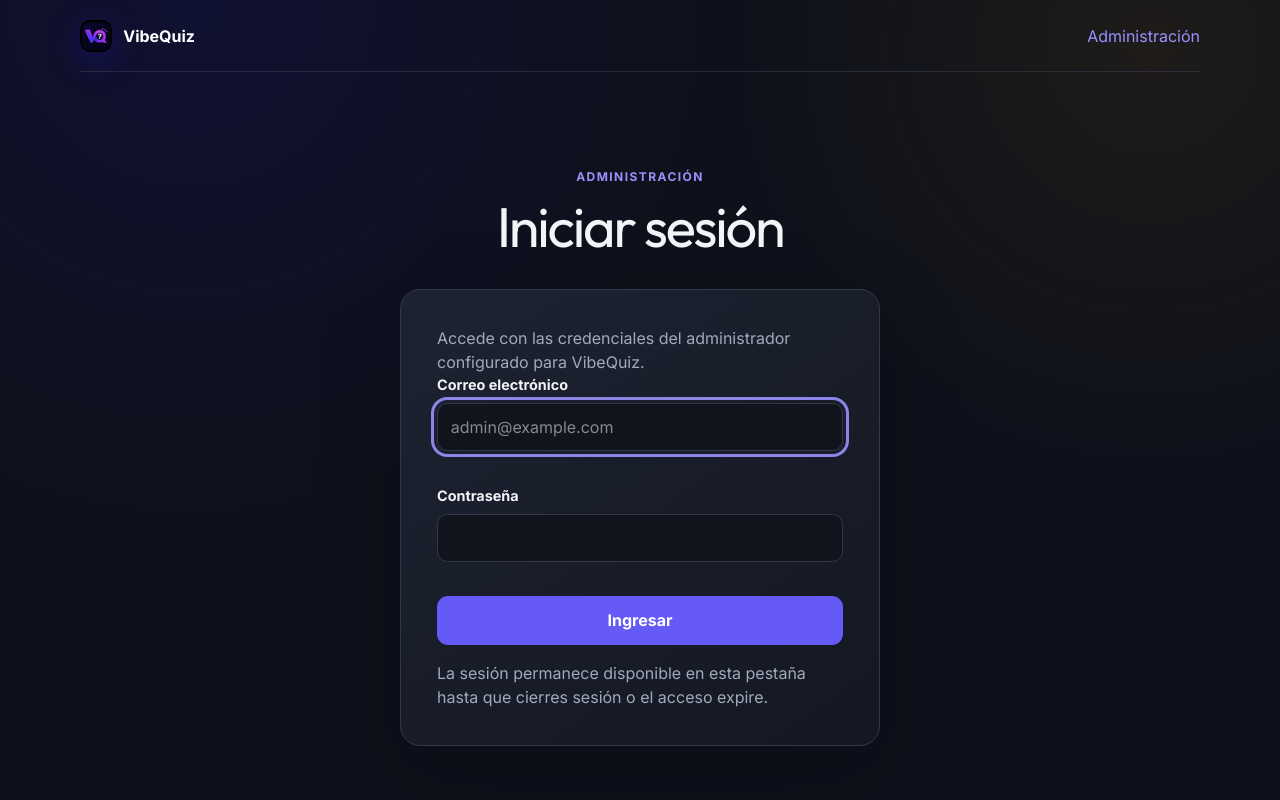
administrative authentication › shows a generic error for invalid credentials
Type "admin@vibequiz.test" into the field labelled "Correo electrónico" at (640, 427), box [437,403,843,451]
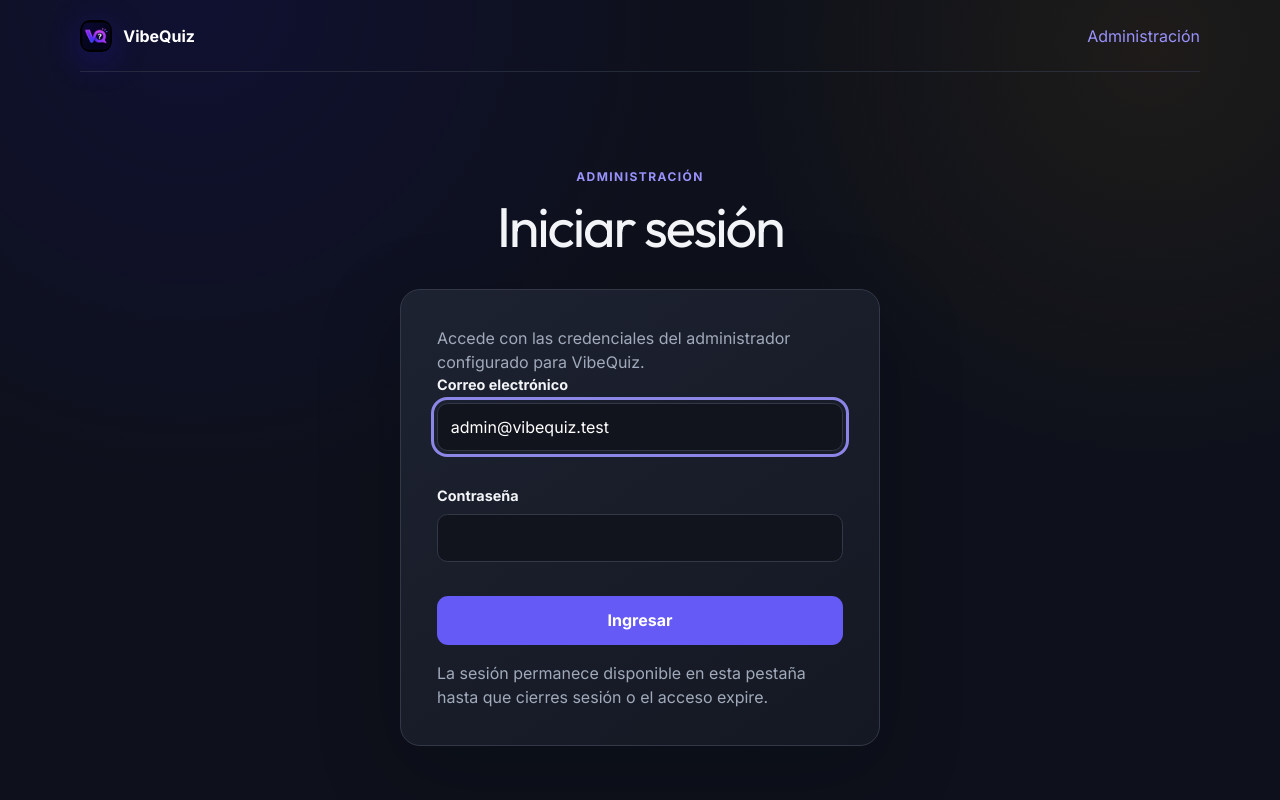
Type "wrong-password" into the password field labelled "Contraseña" at (640, 538), box [437,514,843,562]
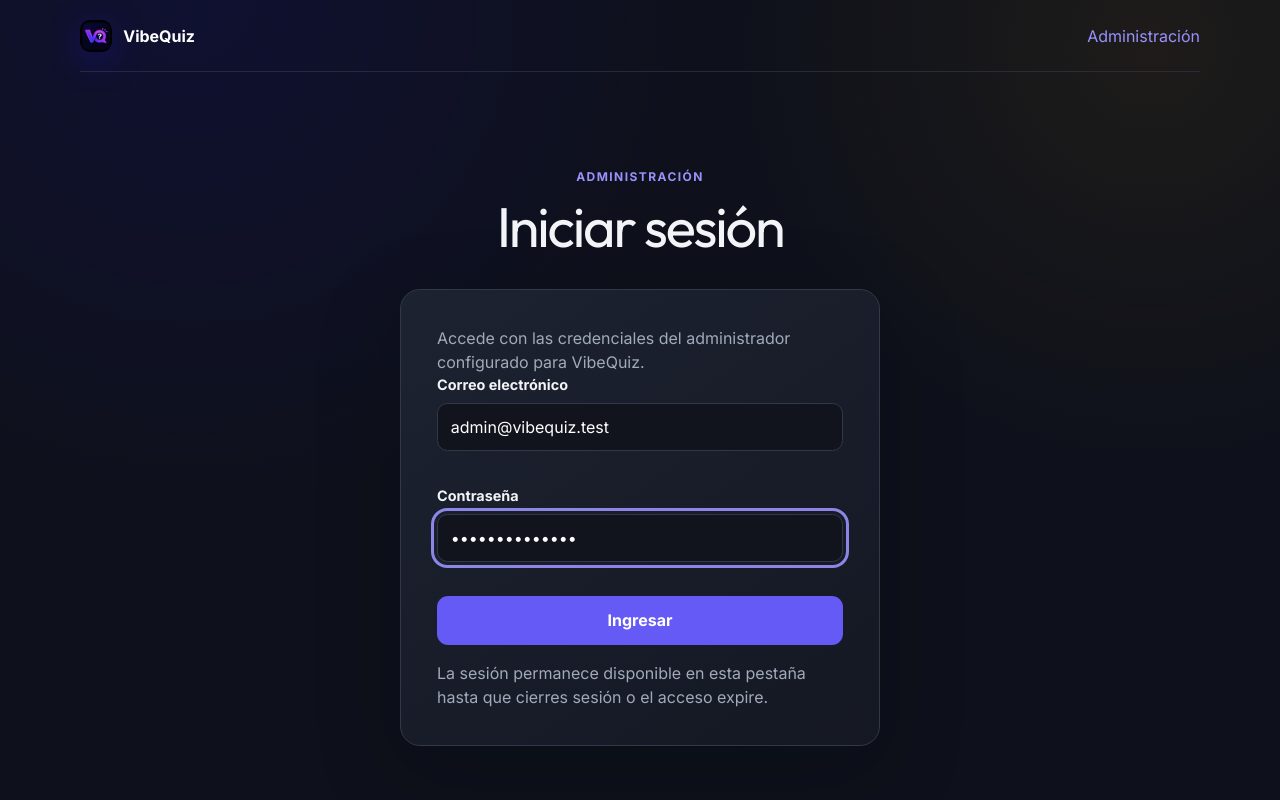
Click the button "Ingresar" at (640, 620), box [437,596,843,645]
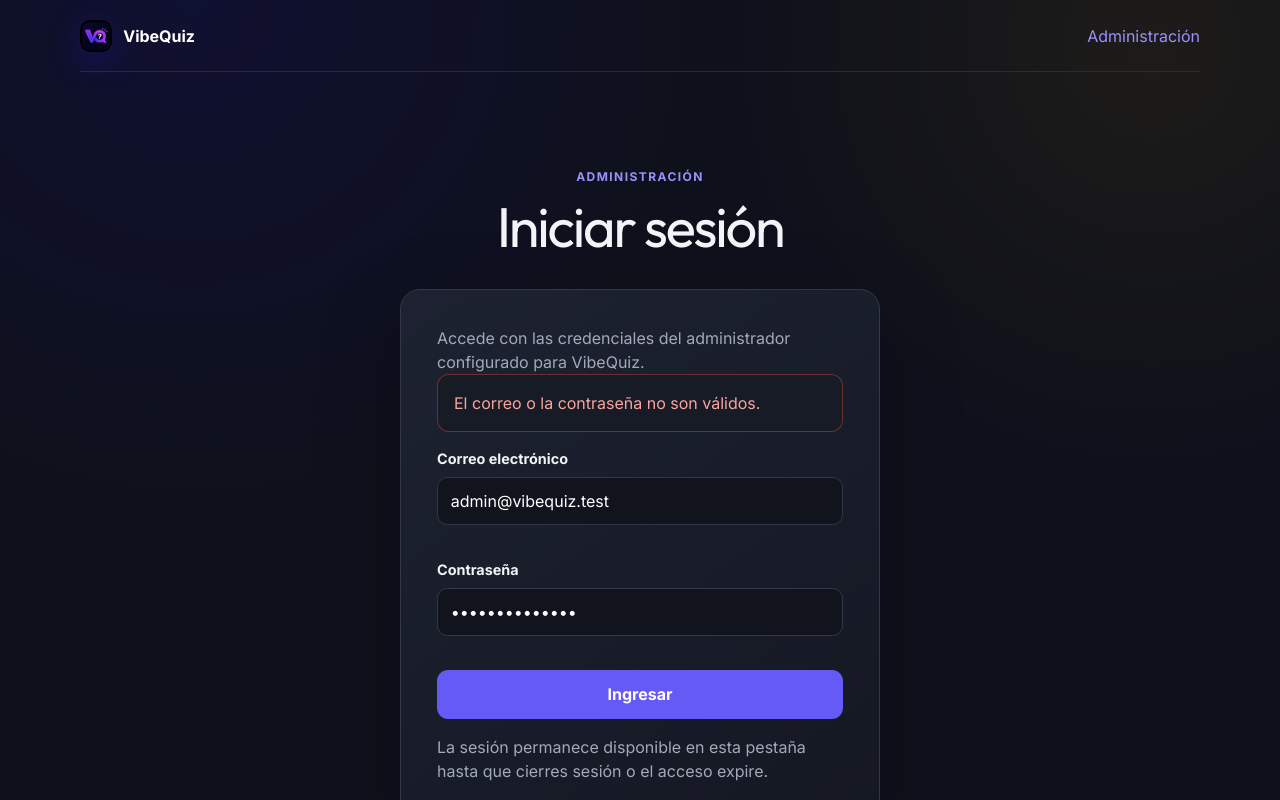
Now the text "El correo o la contraseña no son válidos." is shown, box [437,374,843,432]
